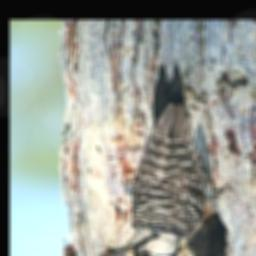Woodpecker: (95, 58, 235, 256)
